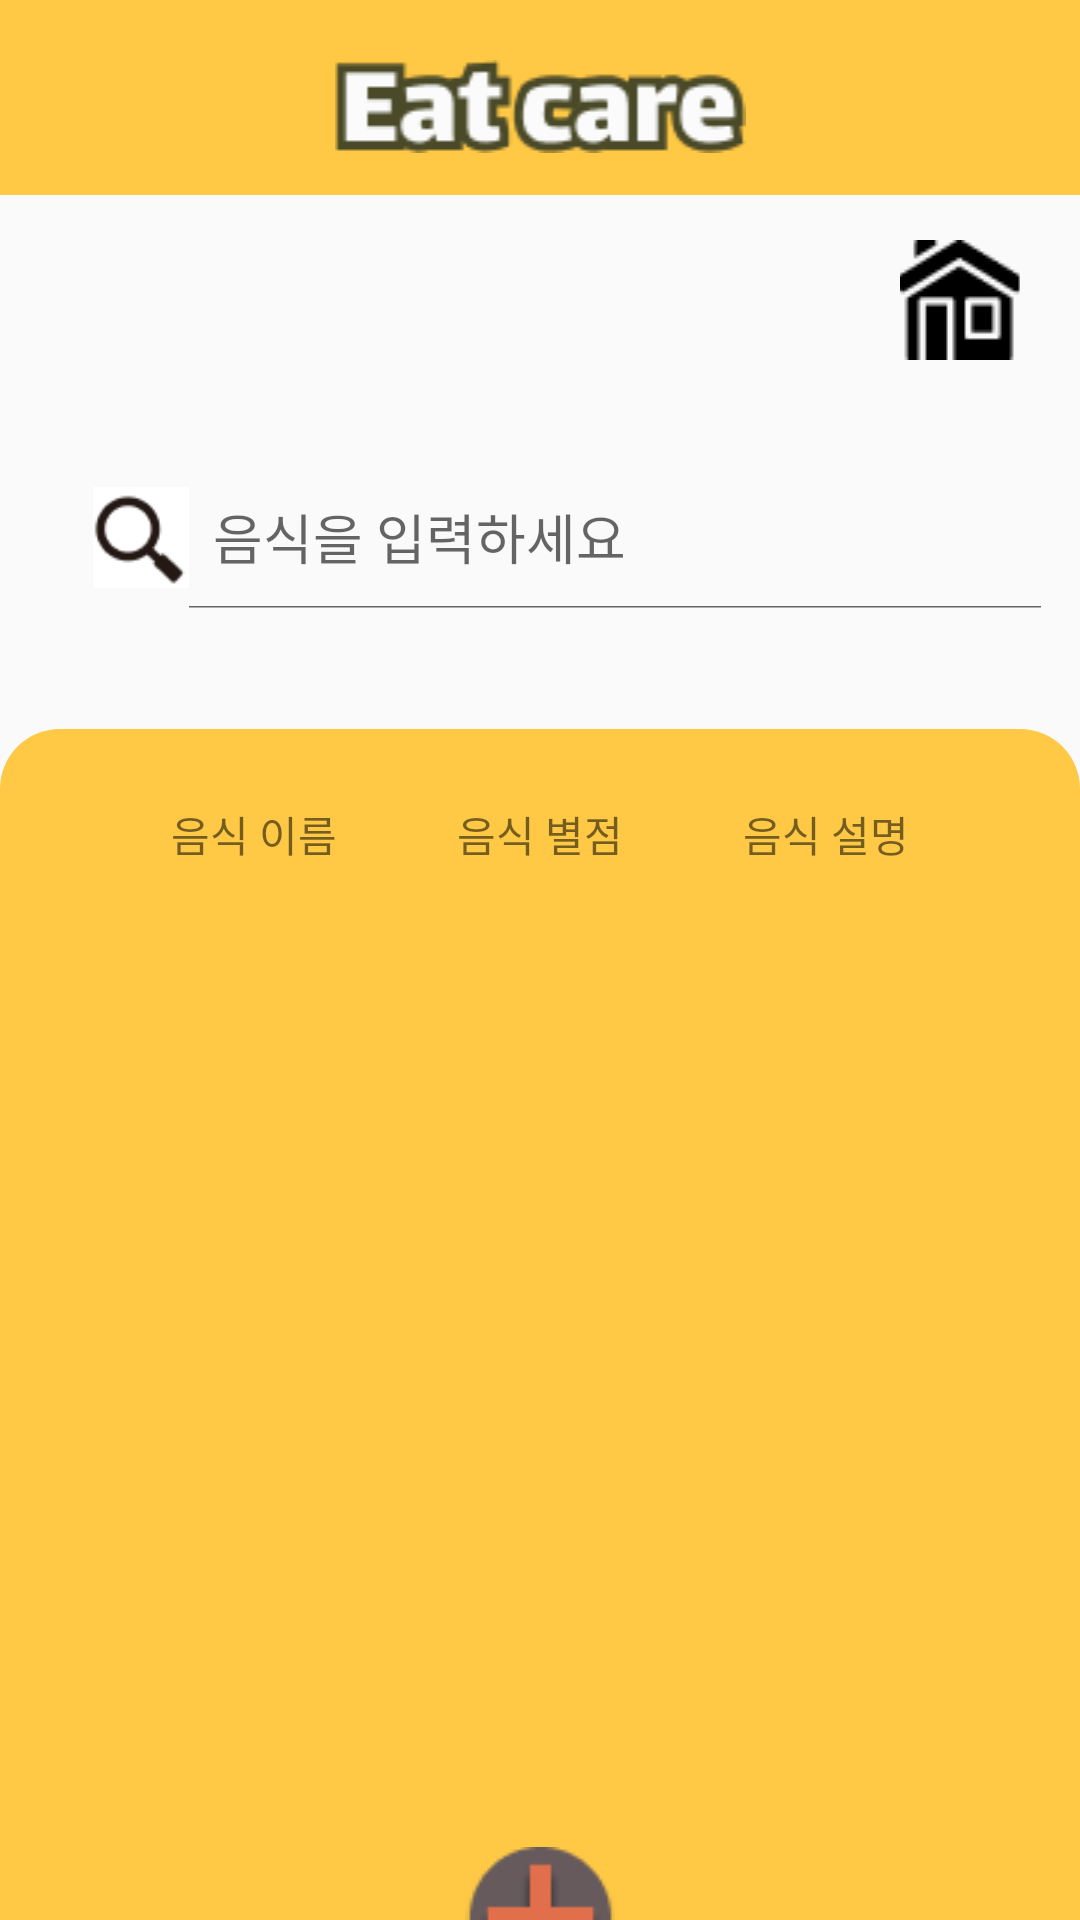

Screen size 1080 x 1920. Icon name, then its center in pixels as (x=x, y=y):
home: (x=960, y=300)
